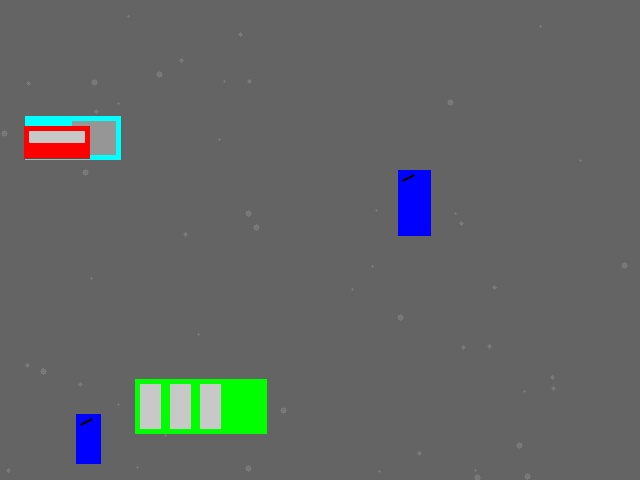bus: (135, 379, 266, 433)
car: (24, 126, 89, 158)
motorcycle: (398, 170, 430, 235), (76, 414, 100, 463)
truck: (25, 116, 120, 159)
